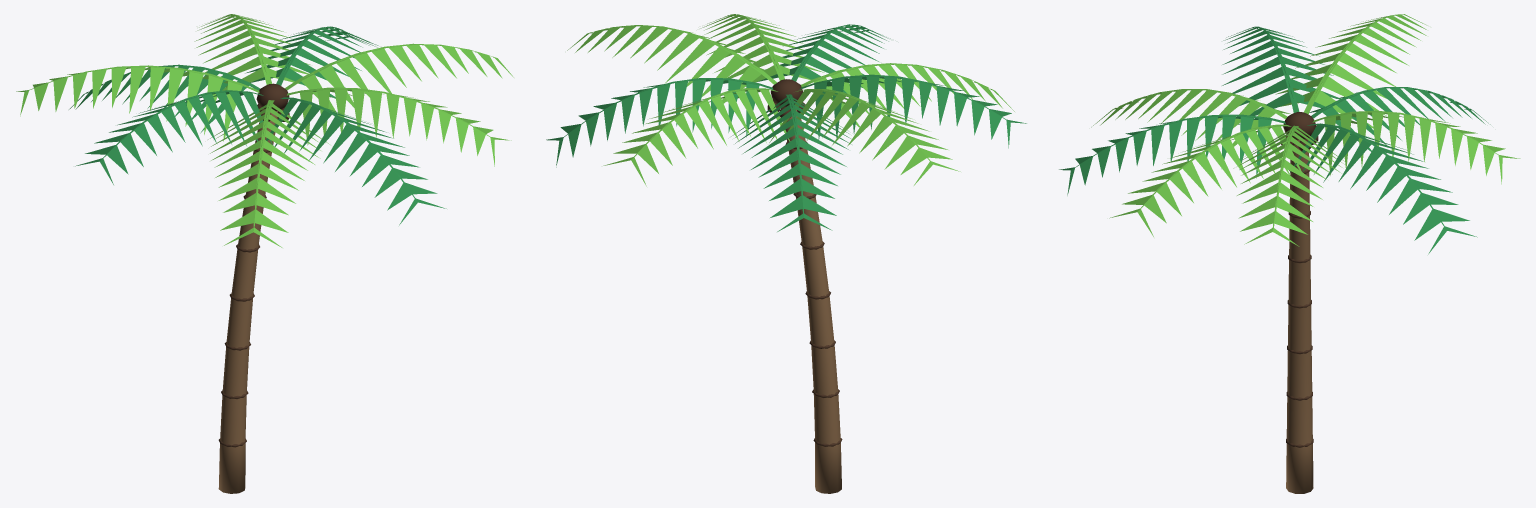
Rendered from jungle_palm.glb.
3 views of the same model, side by side, from view 1: azimuth 30°, elevation 25°; view 2: azimuth 150°, elevation 25°; view 3: azimuth 270°, elevation 25° (orthographic).
Parts seen in each view (by area): view 1: Palm; view 2: Palm; view 3: Palm.
Boxes of the visible parts, x1,y1,x2,y2 form: Palm: (16, 14, 513, 493); Palm: (546, 14, 1026, 493); Palm: (1059, 14, 1520, 493).
Size of the model in its own units: 9.53 by 8.78 by 8.81.
